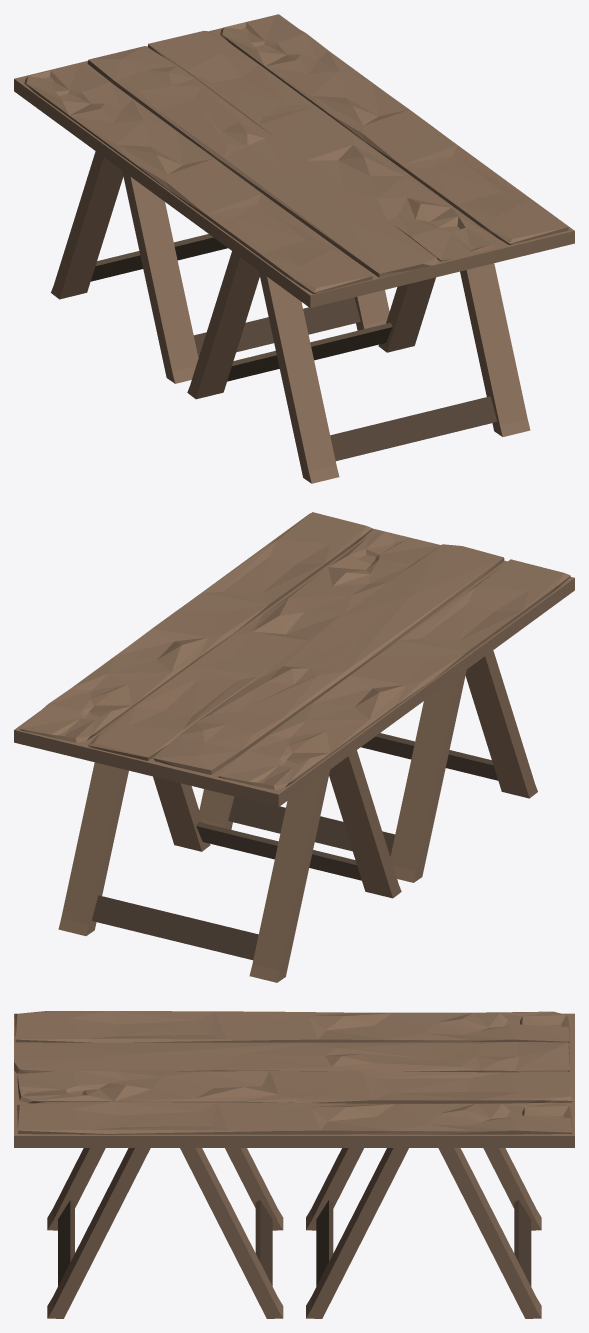
The model's file is SM_table_double.fbx.
The picture shows the model from 3 angles, top to bottom: view 1: azimuth 30°, elevation 25°; view 2: azimuth 150°, elevation 25°; view 3: azimuth 270°, elevation 25°; orthographic projection. The views are drawn at different scales.
Parts seen in each view (by area): view 1: table_double; view 2: table_double; view 3: table_double.
Boxes of the visible parts, x1,y1,x2,y2 form: table_double: [14, 14, 574, 483]; table_double: [14, 512, 574, 982]; table_double: [14, 1011, 574, 1318].
Bounding box in the file's own units: 102 × 79.28 × 198.
